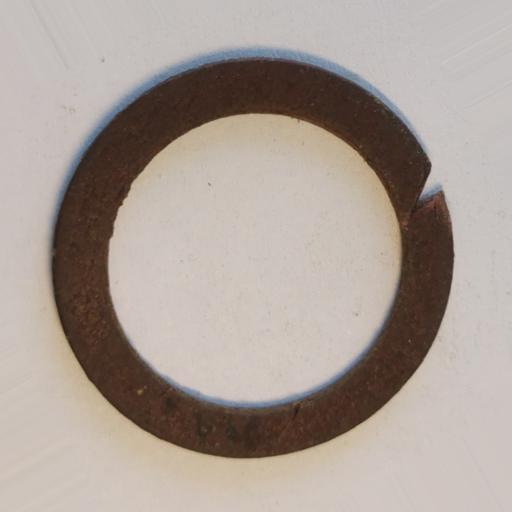defect: (403, 163, 446, 226), (291, 402, 304, 420)
